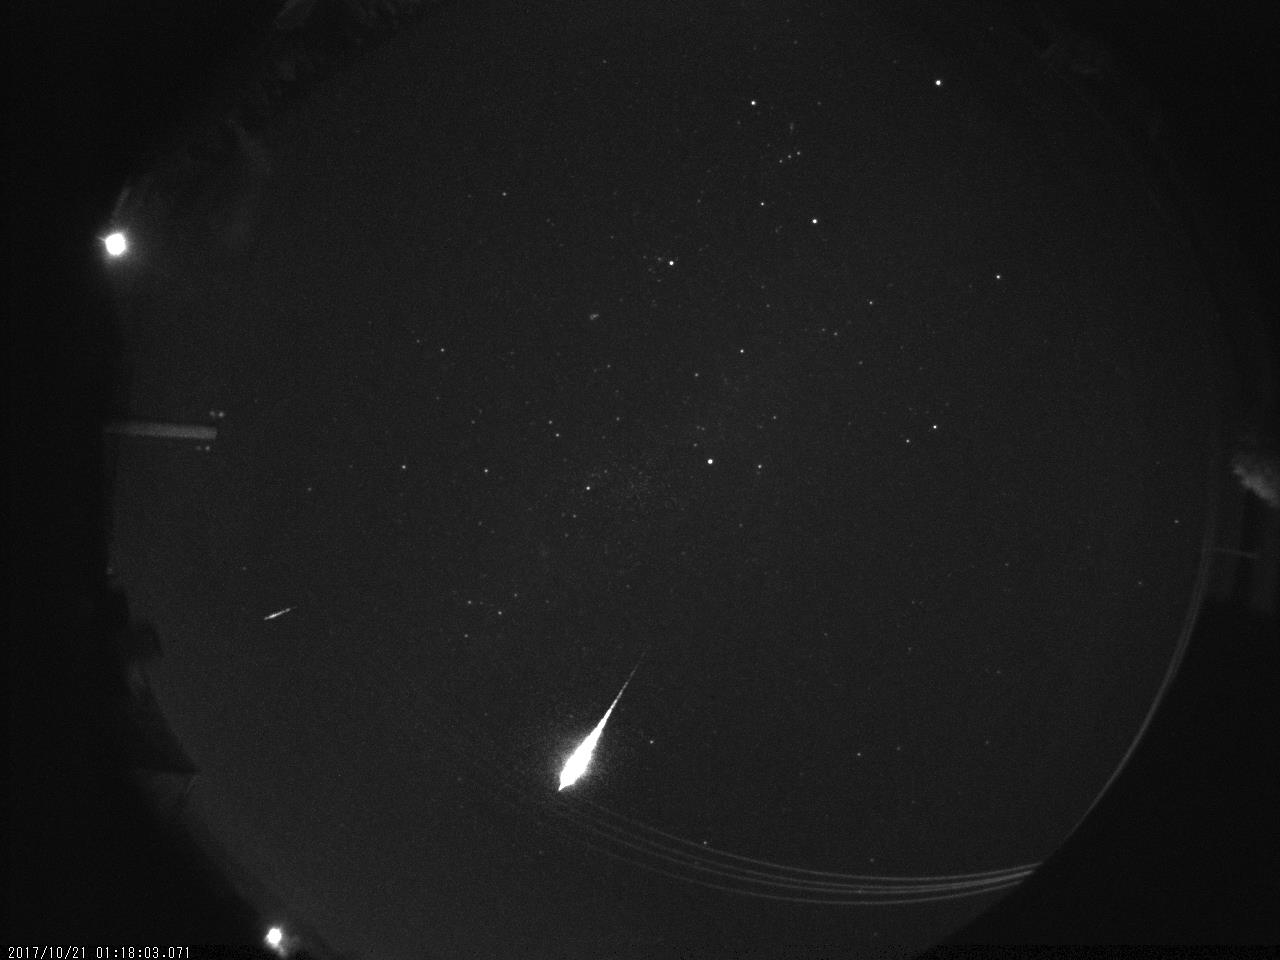meteor: (534, 632, 679, 794), (247, 597, 307, 628)
